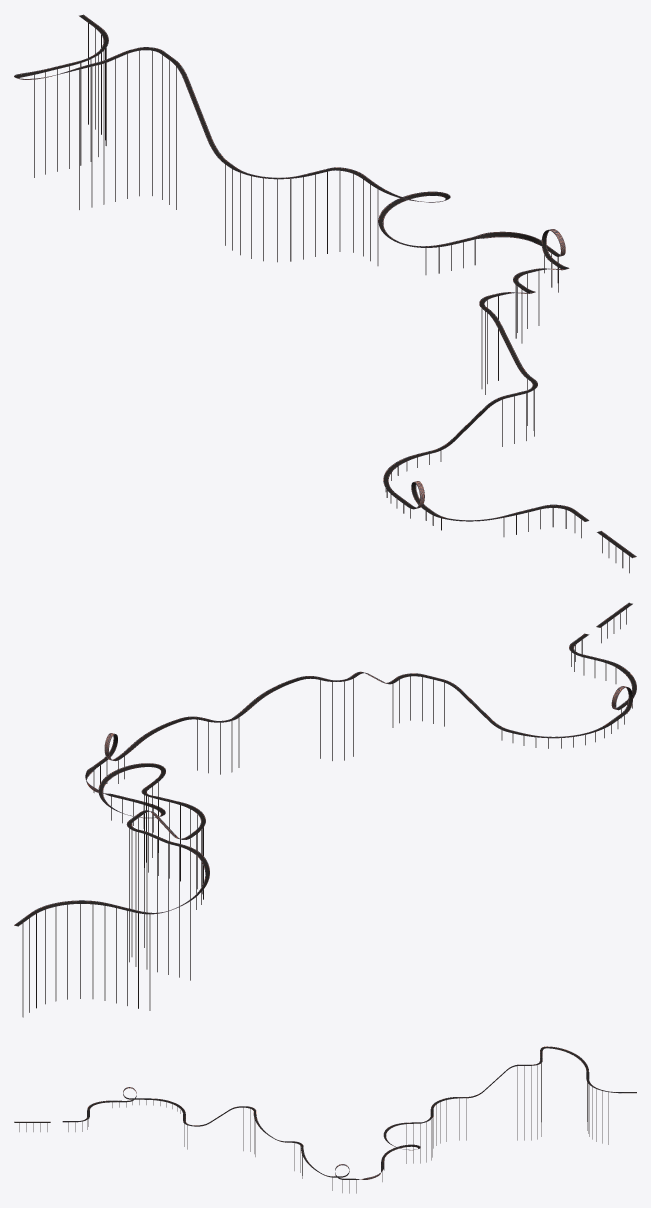
File: circuit.glb
3 renders of one model, top to bottom at view 1: azimuth 30°, elevation 25°; view 2: azimuth 150°, elevation 25°; view 3: azimuth 270°, elevation 25°, orthographic. The views are drawn at different scales.
Parts seen in each view (by area): view 1: Piliers, ROUTE, Muret simple -1.001, Vibreur -1; view 2: Piliers, ROUTE, Muret simple -1.001, Vibreur -1; view 3: Piliers, ROUTE, Muret simple -1.001, Vibreur -1.
Part boxes in pixels (x1,y1,x2,y2): Piliers: [34, 23, 629, 573]; ROUTE: [14, 15, 635, 557]; Muret simple -1.001: [14, 14, 636, 557]; Vibreur -1: [14, 15, 635, 556]; Piliers: [22, 609, 632, 1017]; ROUTE: [15, 603, 636, 926]; Muret simple -1.001: [14, 602, 636, 926]; Vibreur -1: [14, 603, 636, 925]; Piliers: [19, 1063, 608, 1193]; ROUTE: [14, 1047, 636, 1179]; Muret simple -1.001: [14, 1046, 636, 1179]; Vibreur -1: [79, 1046, 615, 1179].
Size of the model in its own units: 1655 by 653 by 4881.
3 materials, 3 textured.
